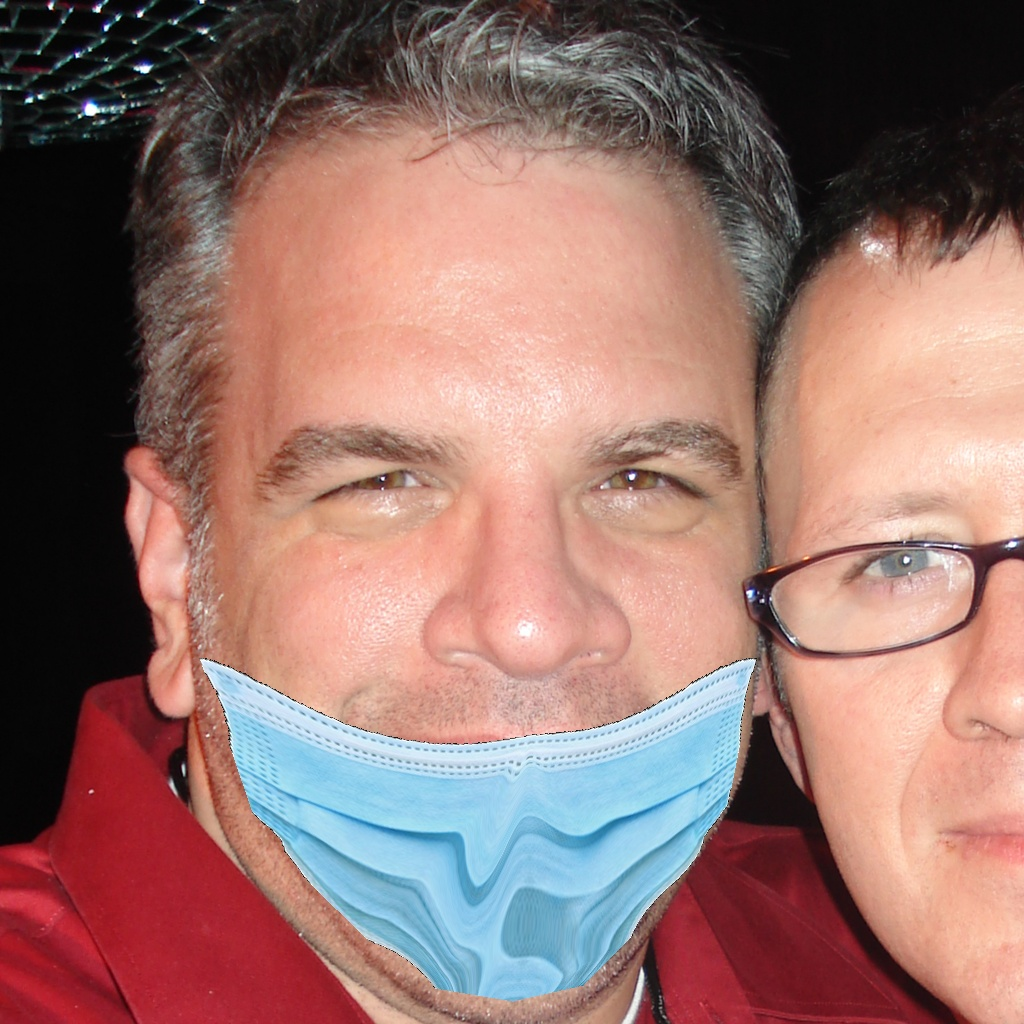mascarilla_mal_puesta: (227, 350, 744, 1013)
